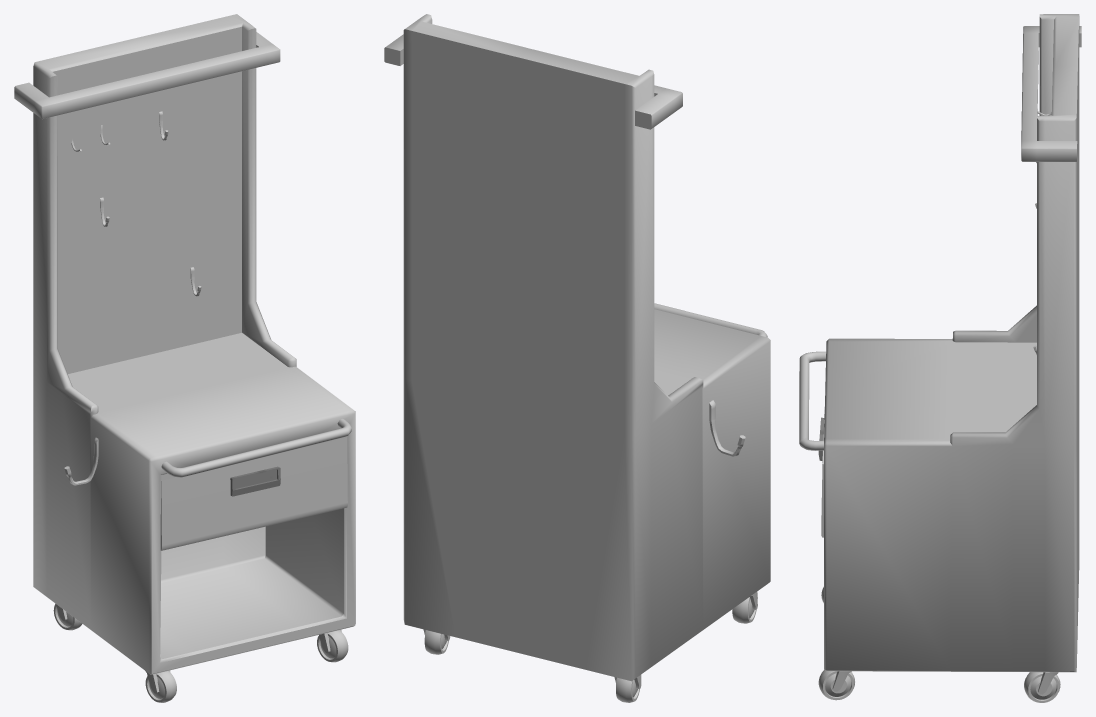
File: weldersCart00.fbx
The picture shows the model from 3 angles, left to right: view 1: azimuth 30°, elevation 25°; view 2: azimuth 150°, elevation 25°; view 3: azimuth 270°, elevation 25°; orthographic projection. The views are drawn at different scales.
Parts seen in each view (by area): view 1: welderCart00, welderCartWheels00, welderCartHandle00; view 2: welderCart00, welderCartWheels00; view 3: welderCart00, welderCartWheels00.
Part boxes in pixels (x1,y1,x2,y2): welderCart00: (14,14,355,674); welderCartWheels00: (53,603,348,702); welderCartHandle00: (230,466,280,496); welderCart00: (384,14,770,681); welderCartWheels00: (423,592,757,702); welderCart00: (799,14,1081,672); welderCartWheels00: (818,587,1060,702).
Size of the model in its own units: 3.09 by 6.48 by 2.81.
